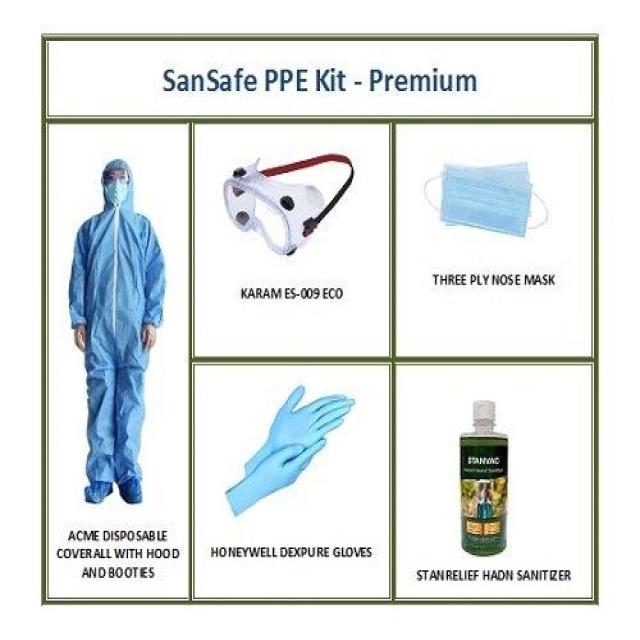Coverall: (64, 156, 170, 505)
Gloves: (223, 378, 357, 520)
Goggles: (220, 153, 355, 256)
